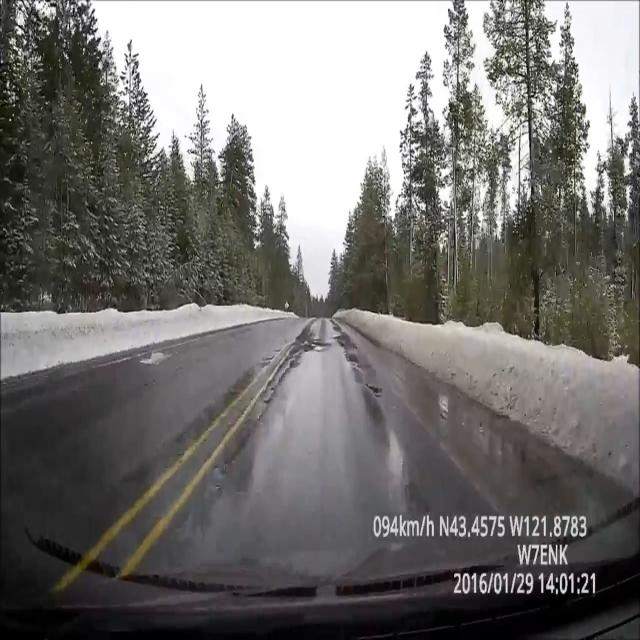Pothole: (296, 330, 338, 360), (341, 328, 365, 364)
